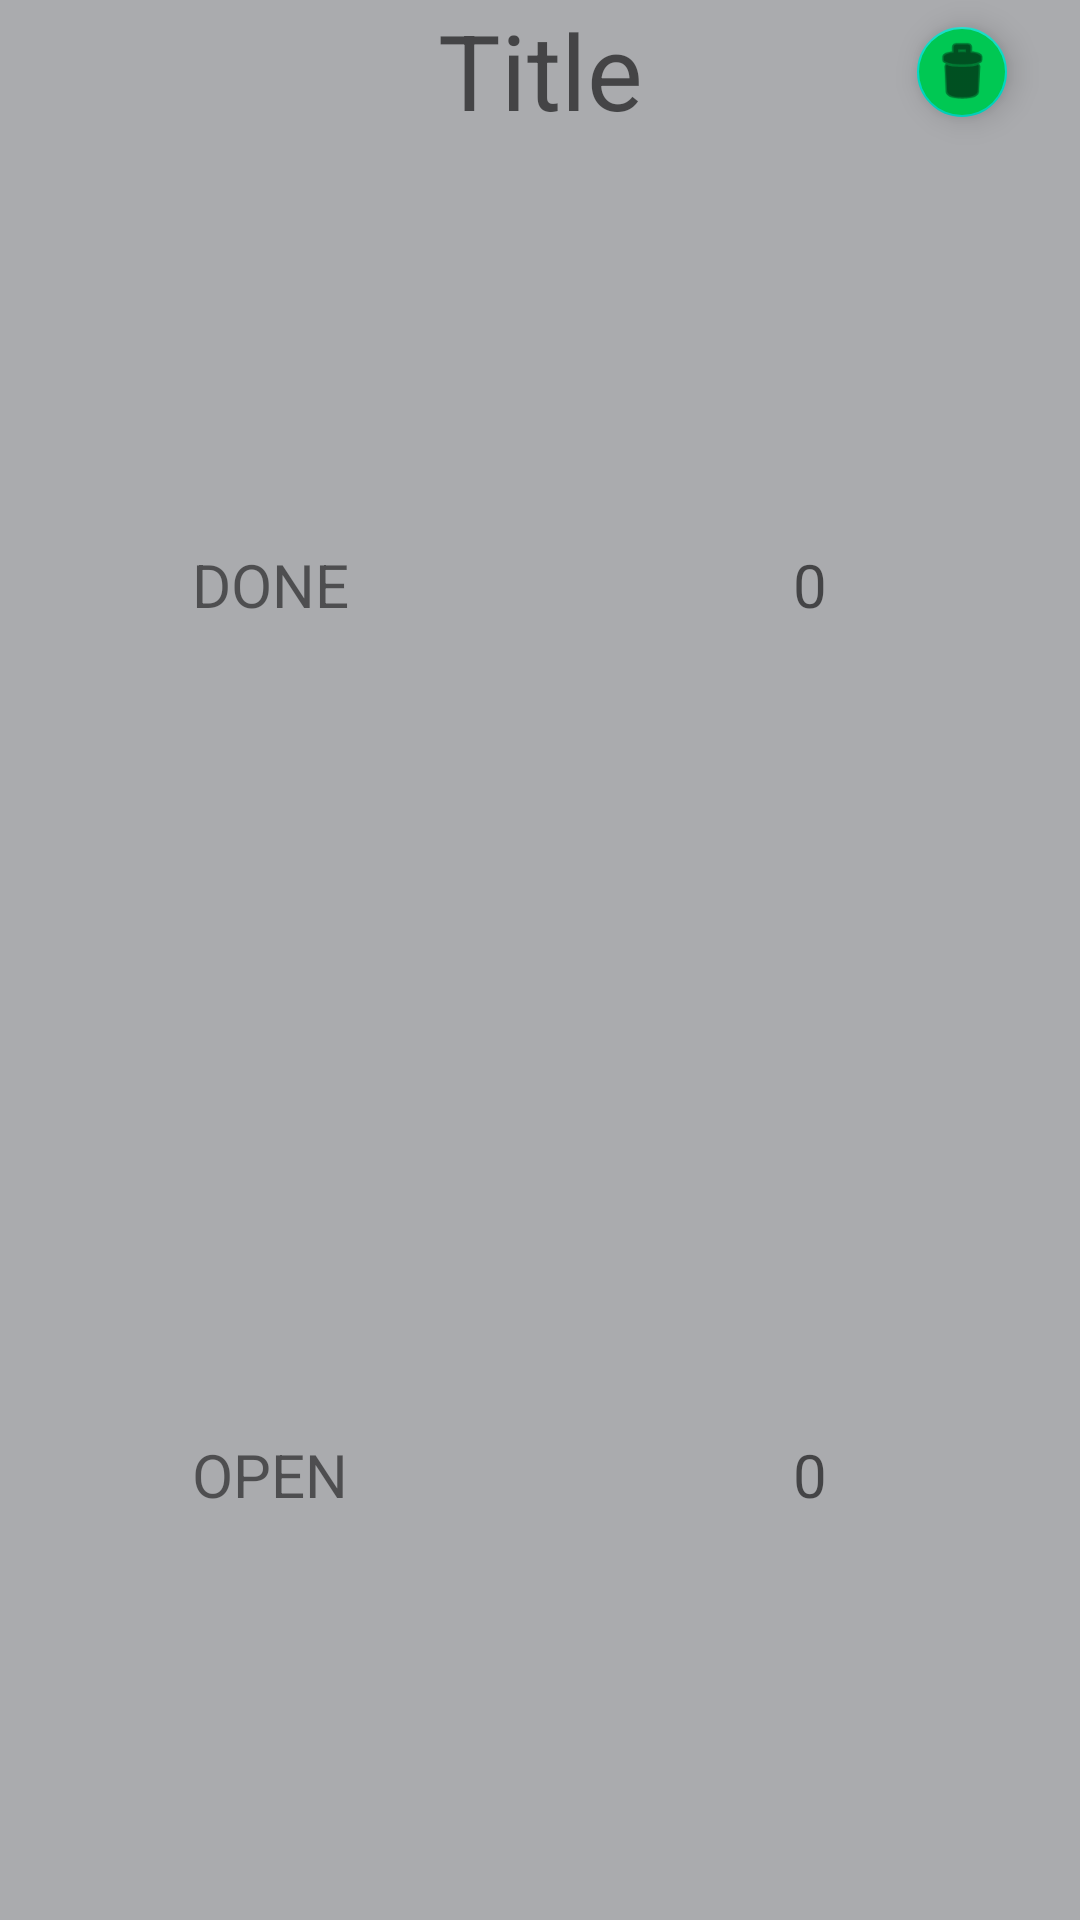

Named icons in this screenshot (1080 × 1920) and their centers, (x,y):
delete: (962,72)
